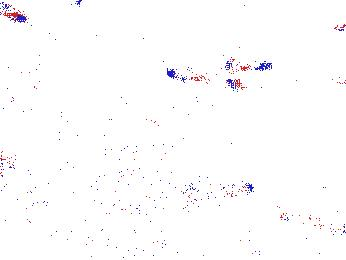red belly glassfish: (184, 175, 254, 200), (1, 2, 28, 24), (315, 17, 346, 32)
redtail glassfish: (166, 66, 246, 95), (274, 208, 346, 236), (222, 57, 271, 75)
